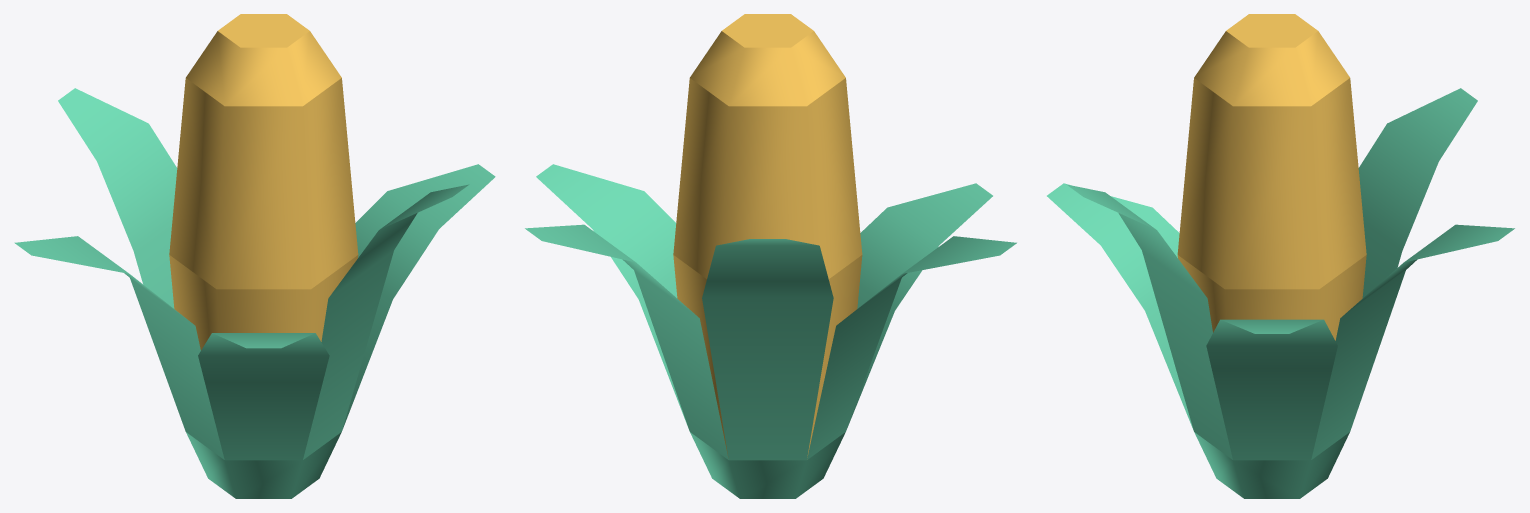
The model's file is Corn.glb.
3 views of the same model, side by side, from view 1: azimuth 30°, elevation 25°; view 2: azimuth 150°, elevation 25°; view 3: azimuth 270°, elevation 25° (orthographic).
Visible parts, largest first — view 1: corn; view 2: corn; view 3: corn.
Boxes of the visible parts, x1,y1,x2,y2 form: corn: (14,14,495,498); corn: (525,14,1016,498); corn: (1047,14,1514,498).
Size of the model in its own units: 0.3432 by 0.3162 by 0.3002.
